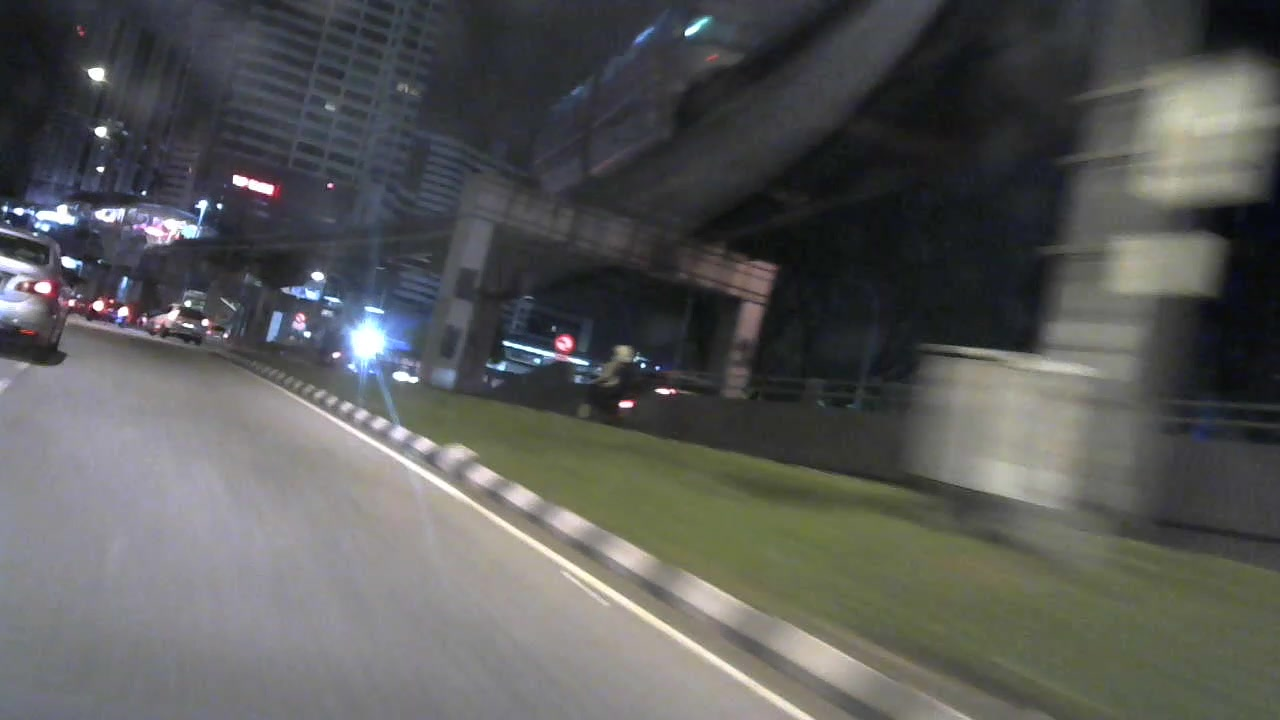Car: (1, 223, 82, 361), (149, 303, 220, 345), (86, 295, 131, 325)
